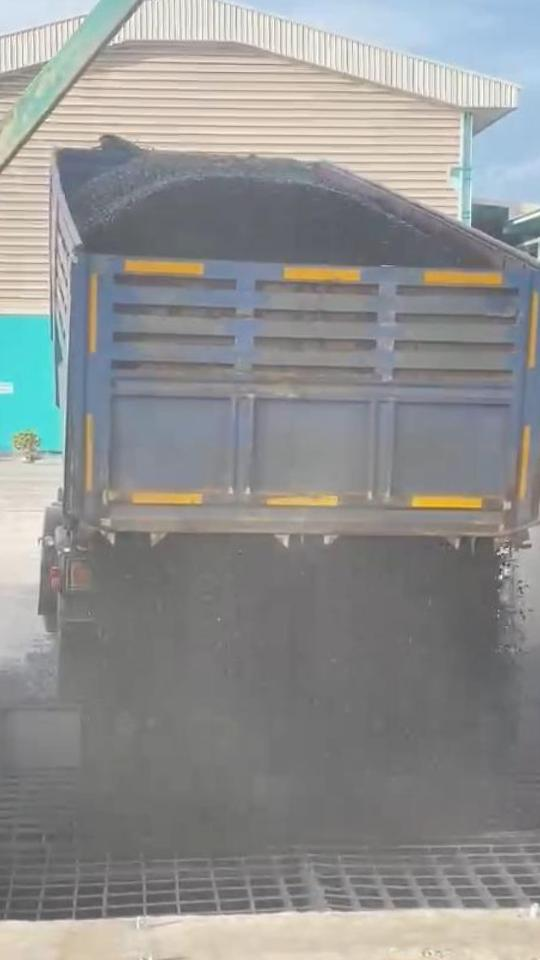gravel: (100, 538, 534, 839), (59, 138, 505, 266), (0, 648, 58, 710)
